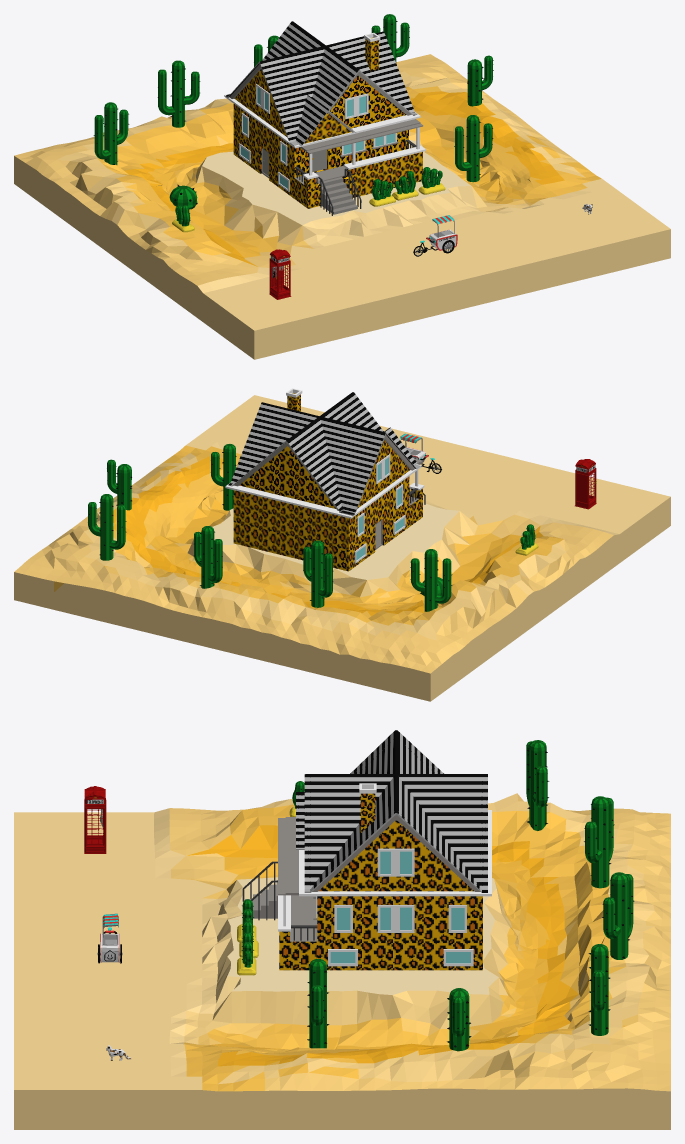
The picture shows the model from 3 angles, top to bottom: view 1: azimuth 30°, elevation 25°; view 2: azimuth 150°, elevation 25°; view 3: azimuth 270°, elevation 25°; orthographic projection. The views are drawn at different scales.
Visible parts, largest first — view 1: Cube.001, Cube.637, Cylinder.037, Cylinder.044, Cylinder.045, OBJRANDOM_PHONEBOOTH, Cylinder.038, Cylinder.042, VEHICLES_SNOWBAL_BIKE, Cylinder.039, Cylinder.041, Sphere.023 (+1 smaller); view 2: Cube.001, Cube.637, Cylinder.042, Cylinder.045, Cylinder.044, Cylinder.043, Cylinder.037, OBJRANDOM_PHONEBOOTH, Cylinder.038, VEHICLES_SNOWBAL_BIKE; view 3: Cube.001, Cube.637, Cylinder.043, Cylinder.044, Cylinder.045, Cylinder.042, Cylinder.037, OBJRANDOM_PHONEBOOTH, Cylinder.038, VEHICLES_SNOWBAL_BIKE, Cylinder.041.
Boxes of the visible parts, x1,y1,x2,y2 form: Cube.001: (14, 54, 670, 359); Cube.637: (224, 21, 425, 215); Cylinder.037: (454, 115, 493, 182); Cylinder.044: (157, 60, 200, 127); Cylinder.045: (93, 102, 129, 164); OBJRANDOM_PHONEBOOTH: (269, 249, 291, 299); Cylinder.038: (467, 55, 493, 106); Cylinder.042: (371, 14, 409, 62); VEHICLES_SNOWBAL_BIKE: (413, 215, 457, 256); Cylinder.039: (369, 179, 395, 206); Cylinder.041: (418, 167, 445, 194); Sphere.023: (169, 184, 197, 209); Cube.001: (14, 395, 670, 701); Cube.637: (225, 388, 425, 571); Cylinder.042: (88, 494, 126, 560); Cylinder.045: (410, 549, 452, 611); Cylinder.044: (303, 540, 333, 607); Cylinder.043: (193, 526, 222, 588); Cylinder.037: (211, 444, 240, 510); OBJRANDOM_PHONEBOOTH: (575, 459, 596, 509); Cylinder.038: (107, 459, 131, 510); VEHICLES_SNOWBAL_BIKE: (400, 433, 441, 473); Cube.001: (14, 793, 670, 1129); Cube.637: (242, 730, 491, 970); Cylinder.043: (602, 872, 634, 959); Cylinder.044: (584, 796, 614, 888); Cylinder.045: (526, 740, 549, 830); Cylinder.042: (588, 944, 610, 1035); Cylinder.037: (307, 959, 329, 1048); OBJRANDOM_PHONEBOOTH: (84, 786, 106, 853); Cylinder.038: (447, 988, 471, 1051); VEHICLES_SNOWBAL_BIKE: (97, 913, 122, 963); Cylinder.041: (237, 932, 256, 975).
Bounding box in the file's own units: 4002 × 1605 × 4001.
Materials: 40 (3 with a texture image).
